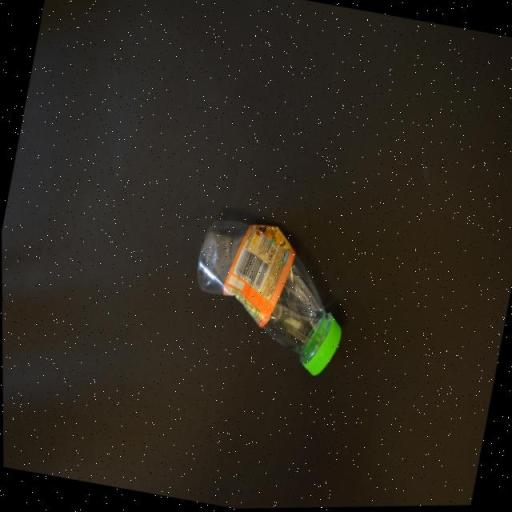plastic: (179, 213, 361, 384)
